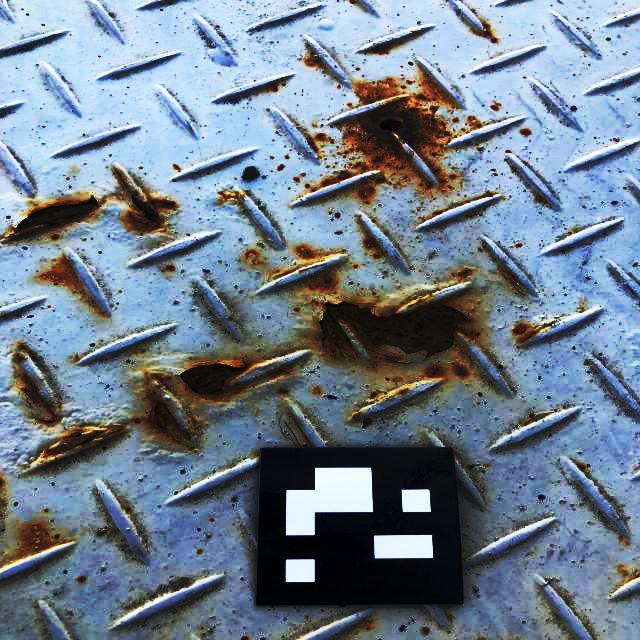Corrosion: (307, 73, 450, 199), (314, 296, 480, 360), (6, 193, 104, 236), (180, 358, 246, 400), (32, 427, 117, 459), (127, 194, 177, 234), (145, 393, 188, 437), (19, 373, 58, 421)
